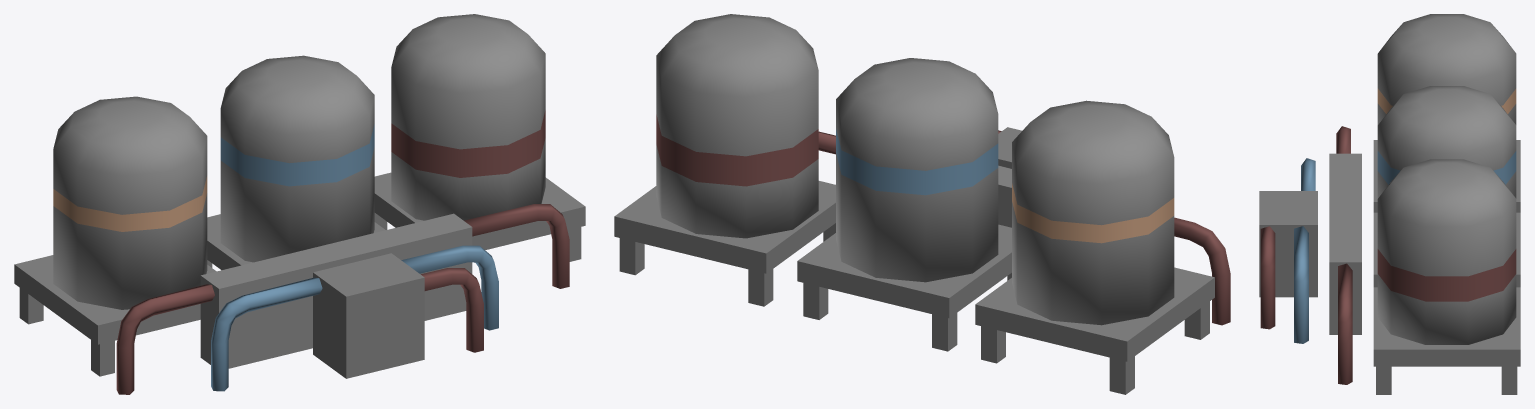
The model's file is barrels.gltf.
3 renders of one model, left to right at view 1: azimuth 30°, elevation 25°; view 2: azimuth 150°, elevation 25°; view 3: azimuth 270°, elevation 25°, orthographic. The views are drawn at different scales.
Parts seen in each view (by area): view 1: Cylinder.001, Cylinder.002, Cylinder, Cube.016, Cube.015, Cube.002, Cube.001, Cylinder.005, Cylinder.004, Cylinder.003, Cylinder.006, Cylinder.007 (+2 smaller); view 2: Cylinder.002, Cylinder, Cylinder.001, Cube.002, Cube.001, Cube, Cube.009, Cylinder.004, Cube.016, Cube.015; view 3: Cylinder.002, Cylinder, Cylinder.001, Cube.016, Cube.001, Cube.015, Cylinder.003, Cylinder.006, Cylinder.007, Cube.009, Cube, Cube.002 (+2 smaller).
Part boxes in pixels (left/top/right/bottom): Cylinder.001: left=53, top=96, right=207, bottom=309; Cylinder.002: left=391, top=14, right=545, bottom=220; Cylinder: left=220, top=55, right=374, bottom=262; Cube.016: left=200, top=213, right=472, bottom=368; Cube.015: left=313, top=253, right=424, bottom=378; Cube.002: left=14, top=255, right=216, bottom=344; Cube.001: left=374, top=172, right=585, bottom=250; Cylinder.005: left=211, top=277, right=322, bottom=391; Cylinder.004: left=116, top=284, right=214, bottom=394; Cylinder.003: left=464, top=204, right=569, bottom=288; Cylinder.006: left=401, top=245, right=498, bottom=330; Cylinder.007: left=421, top=268, right=483, bottom=352; Cylinder.002: left=656, top=14, right=818, bottom=238; Cylinder: left=836, top=58, right=998, bottom=282; Cylinder.001: left=1012, top=100, right=1174, bottom=325; Cube.002: left=975, top=267, right=1214, bottom=361; Cube.001: left=614, top=181, right=835, bottom=273; Cube: left=797, top=224, right=1011, bottom=318; Cube.009: left=619, top=223, right=1209, bottom=394; Cylinder.004: left=1174, top=217, right=1230, bottom=325; Cube.016: left=998, top=165, right=1011, bottom=227; Cube.015: left=998, top=127, right=1021, bottom=168; Cylinder.002: left=1377, top=159, right=1516, bottom=344; Cylinder: left=1377, top=86, right=1516, bottom=198; Cylinder.001: left=1377, top=14, right=1516, bottom=124; Cube.016: left=1329, top=153, right=1361, bottom=334; Cube.001: left=1373, top=287, right=1520, bottom=366; Cube.015: left=1259, top=191, right=1317, bottom=297; Cylinder.003: left=1338, top=263, right=1352, bottom=384; Cylinder.006: left=1294, top=226, right=1308, bottom=343; Cylinder.007: left=1260, top=226, right=1275, bottom=329; Cube.009: left=1376, top=366, right=1517, bottom=394; Cube: left=1373, top=212, right=1520, bottom=287; Cube.002: left=1373, top=140, right=1520, bottom=212.
Size of the model in its own units: 12.42 by 5.33 by 6.54.
